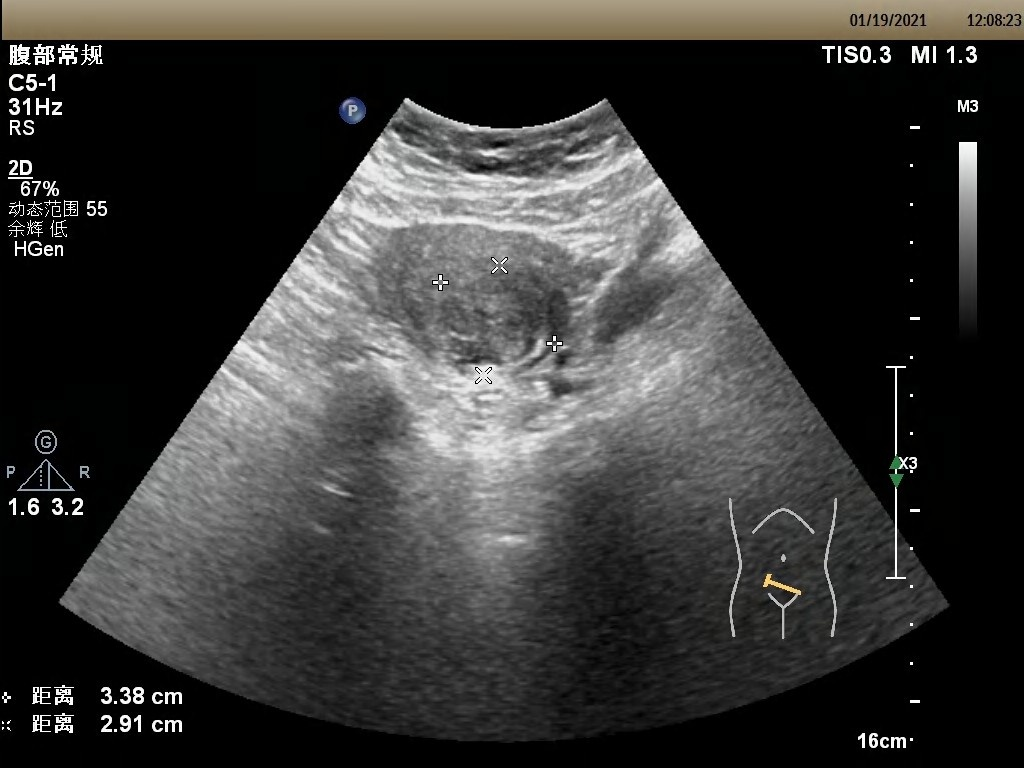肌瘤: (438, 265, 560, 375)
